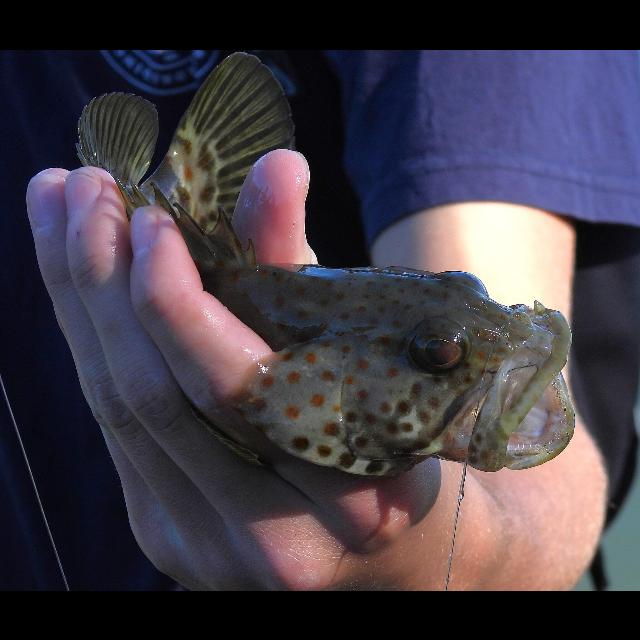Groupers: (74, 49, 578, 479)
